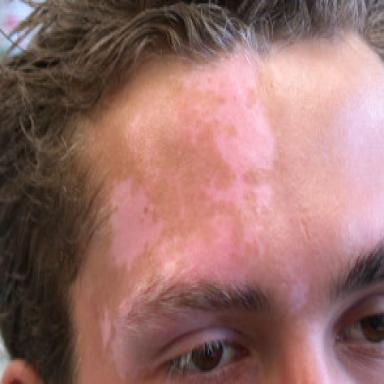Lupus-Erythematosus-Chronicus-Discoides: (156, 53, 273, 285), (110, 179, 163, 272), (111, 295, 139, 381), (289, 281, 310, 317), (101, 311, 111, 353)
